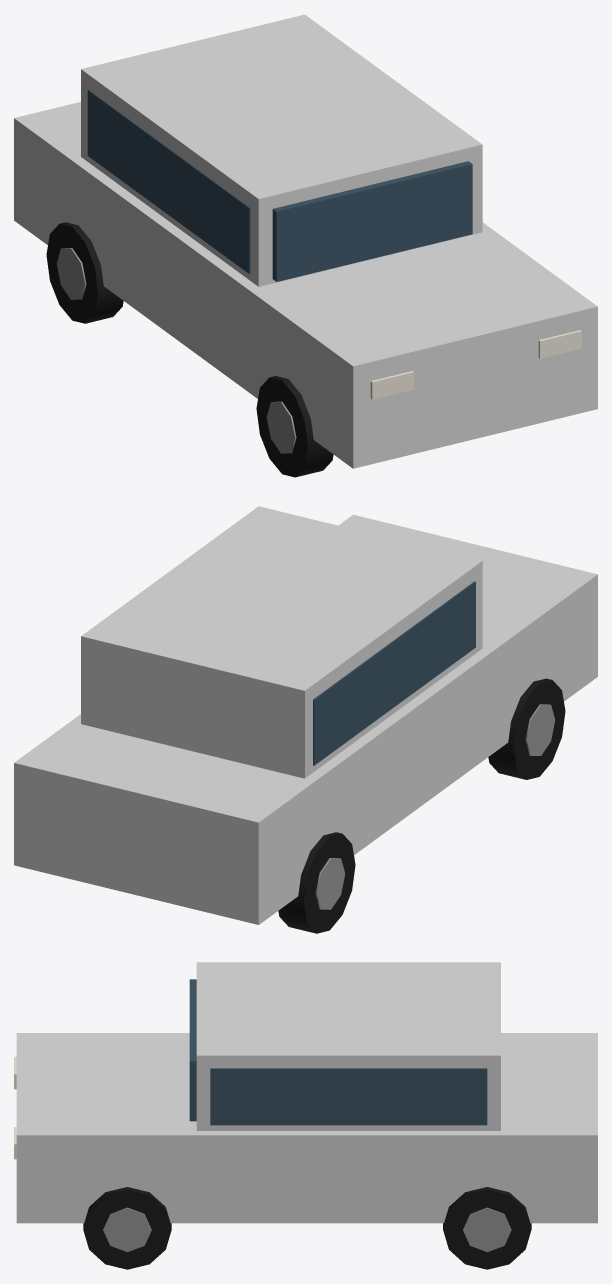
Rendered from car_0.glb.
3 renders of one model, top to bottom at view 1: azimuth 30°, elevation 25°; view 2: azimuth 150°, elevation 25°; view 3: azimuth 270°, elevation 25°, orthographic. The views are drawn at different scales.
Parts seen in each view (by area): view 1: car_0, wheel_FL, wheel_RL; view 2: car_0, wheel_RL, wheel_FL; view 3: car_0, wheel_RR, wheel_FR.
Boxes of the visible parts, x1,y1,x2,y2 form: car_0: (14,14,597,468); wheel_FL: (256,376,333,477); wheel_RL: (46,222,123,323); car_0: (14,506,597,924); wheel_RL: (278,832,355,933); wheel_FL: (488,678,565,779); car_0: (14,962,597,1223); wheel_RR: (443,1187,531,1269); wheel_FR: (83,1187,171,1269).
Bounding box in the file's own units: 1.86 × 1.65 × 4.22.
